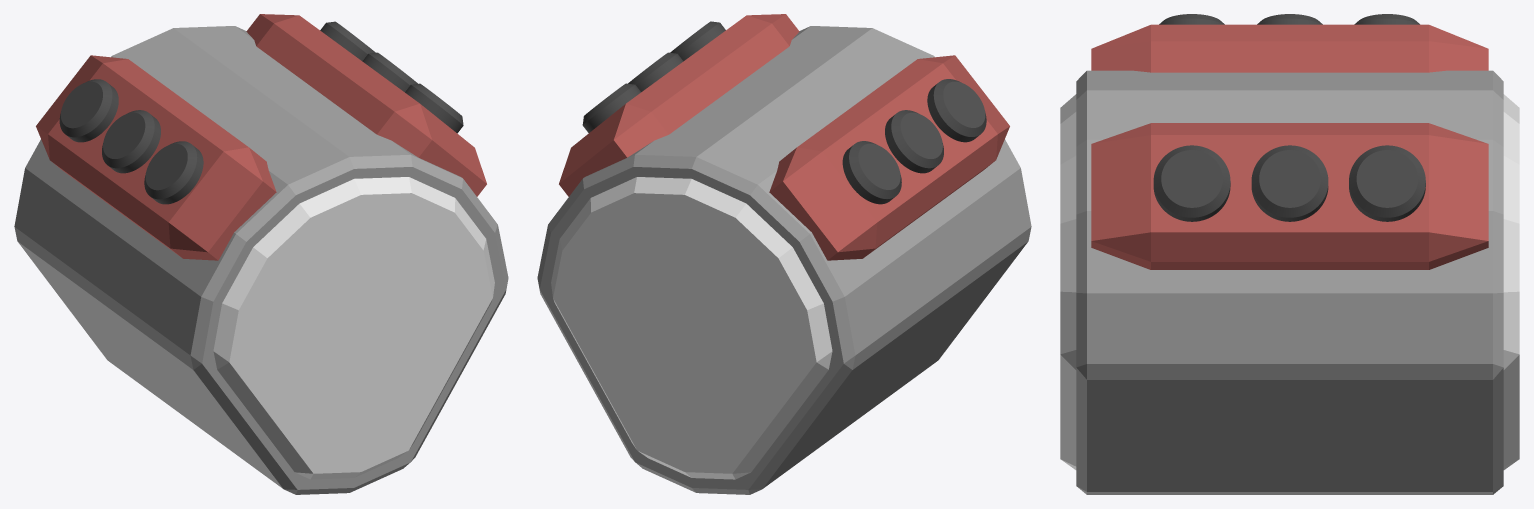
Rendered from EngineEnhancer.fbx.
3 renders of one model, left to right at view 1: azimuth 30°, elevation 25°; view 2: azimuth 150°, elevation 25°; view 3: azimuth 270°, elevation 25°, orthographic. The views are drawn at different scales.
Parts seen in each view (by area): view 1: Cylinder, Cylinder.001, Cube, Cube.001, Cylinder.005, Cylinder.006, Cylinder.007, Cylinder.004, Cylinder.002, Cylinder.003; view 2: Cylinder, Cylinder.001, Cube, Cube.001, Cylinder.005, Cylinder.006, Cylinder.007, Cylinder.003, Cylinder.004, Cylinder.002; view 3: Cylinder, Cube.001, Cube, Cylinder.001, Cylinder.002, Cylinder.004, Cylinder.003, Cylinder.007, Cylinder.005, Cylinder.006.
Boxes of the visible parts, x1,y1,x2,y2 form: Cylinder: (14, 26, 508, 494); Cylinder.001: (213, 177, 494, 479); Cube: (36, 55, 276, 260); Cube.001: (246, 14, 486, 196); Cylinder.005: (144, 141, 203, 204); Cylinder.006: (59, 79, 118, 142); Cylinder.007: (102, 110, 160, 173); Cylinder.004: (405, 83, 463, 133); Cylinder.002: (362, 52, 417, 92); Cylinder.003: (320, 21, 375, 61); Cylinder: (537, 26, 1031, 494); Cylinder.001: (551, 177, 832, 479); Cube: (769, 55, 1009, 260); Cube.001: (559, 14, 799, 196); Cylinder.005: (927, 79, 986, 142); Cylinder.006: (842, 141, 901, 204); Cylinder.007: (885, 110, 943, 173); Cylinder.003: (582, 83, 640, 132); Cylinder.004: (670, 21, 725, 61); Cylinder.002: (628, 52, 683, 91); Cylinder: (1076, 70, 1503, 494); Cube.001: (1091, 123, 1488, 269); Cube: (1091, 24, 1488, 72); Cylinder.001: (1060, 94, 1519, 469); Cylinder.002: (1251, 145, 1328, 221); Cylinder.004: (1153, 145, 1230, 221); Cylinder.003: (1349, 145, 1425, 221); Cylinder.007: (1257, 14, 1322, 24); Cylinder.005: (1159, 14, 1224, 24); Cylinder.006: (1354, 14, 1419, 24).
Bounding box in the file's own units: 198 × 205 × 215.
